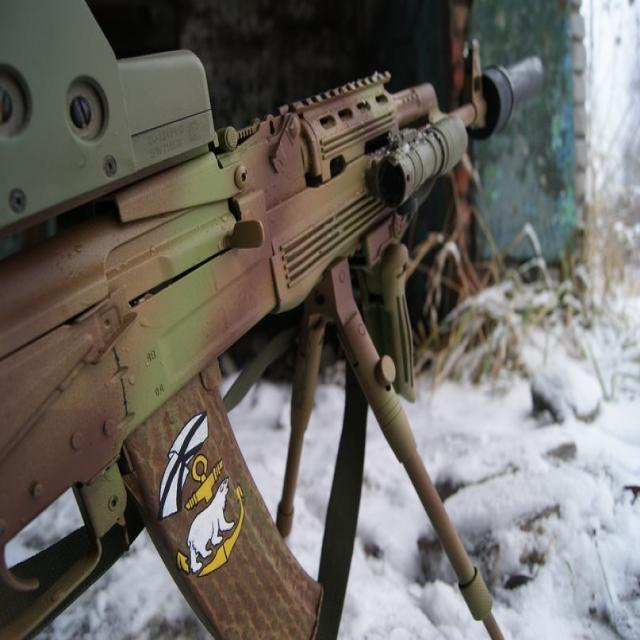firearm: (0, 0, 546, 640)
